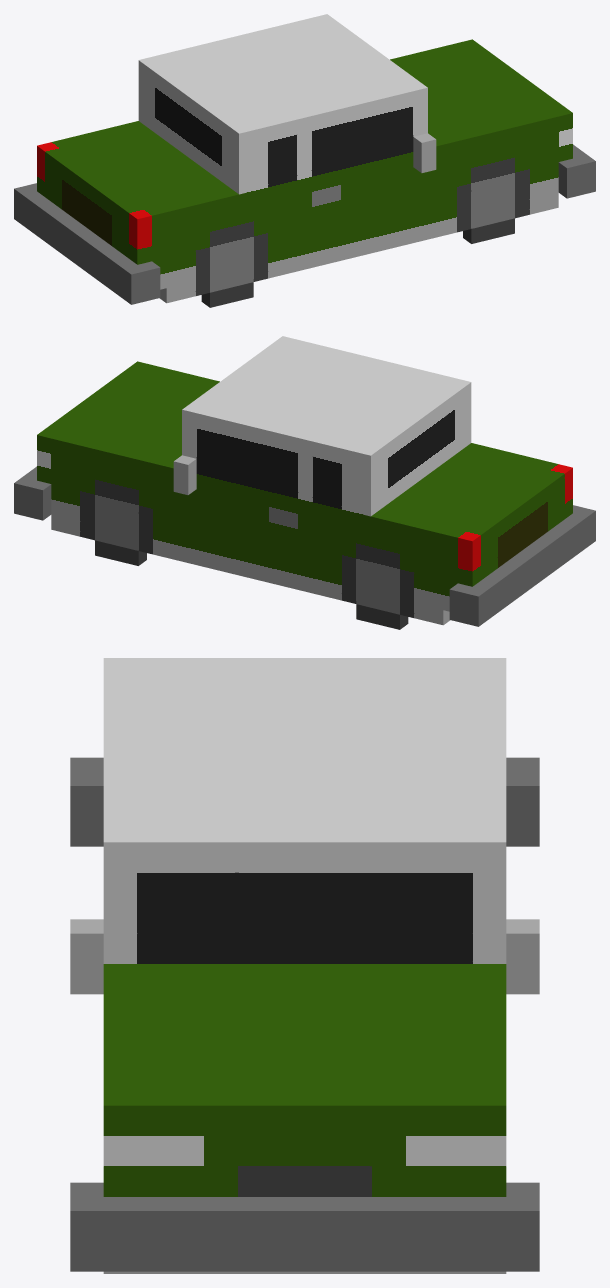
File: veh_car5.dae
3 views of the same model, one above another, from view 1: azimuth 30°, elevation 25°; view 2: azimuth 150°, elevation 25°; view 3: azimuth 270°, elevation 25° (orthographic). The views are drawn at different scales.
Visible parts, largest first — view 1: veh_car5; view 2: veh_car5; view 3: veh_car5.
Boxes of the visible parts, x1=… form: veh_car5: x1=14, y1=14, x2=595, y2=307; veh_car5: x1=14, y1=336, x2=595, y2=629; veh_car5: x1=70, y1=658, x2=539, y2=1273.
Bounding box in the file's own units: 3.2 × 1.4 × 1.1.
Materials: 1 (1 with a texture image).
